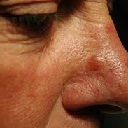Carcinoma: (83, 59, 110, 87)
